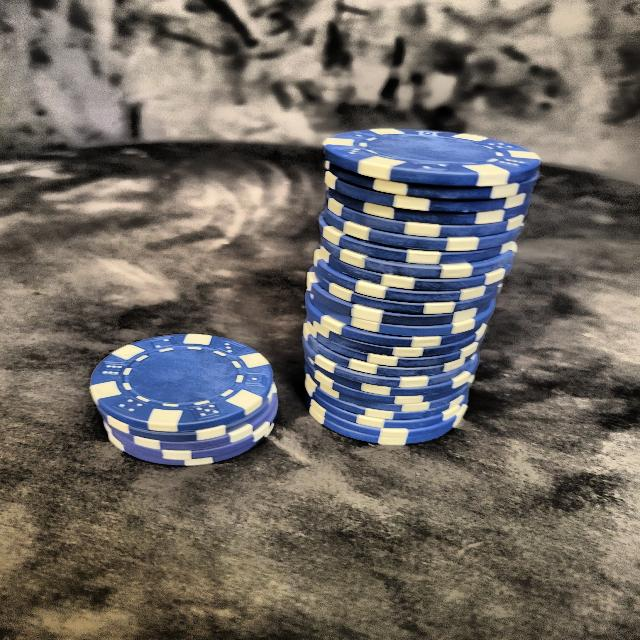Chip: (272, 101, 554, 448), (86, 313, 282, 475)
